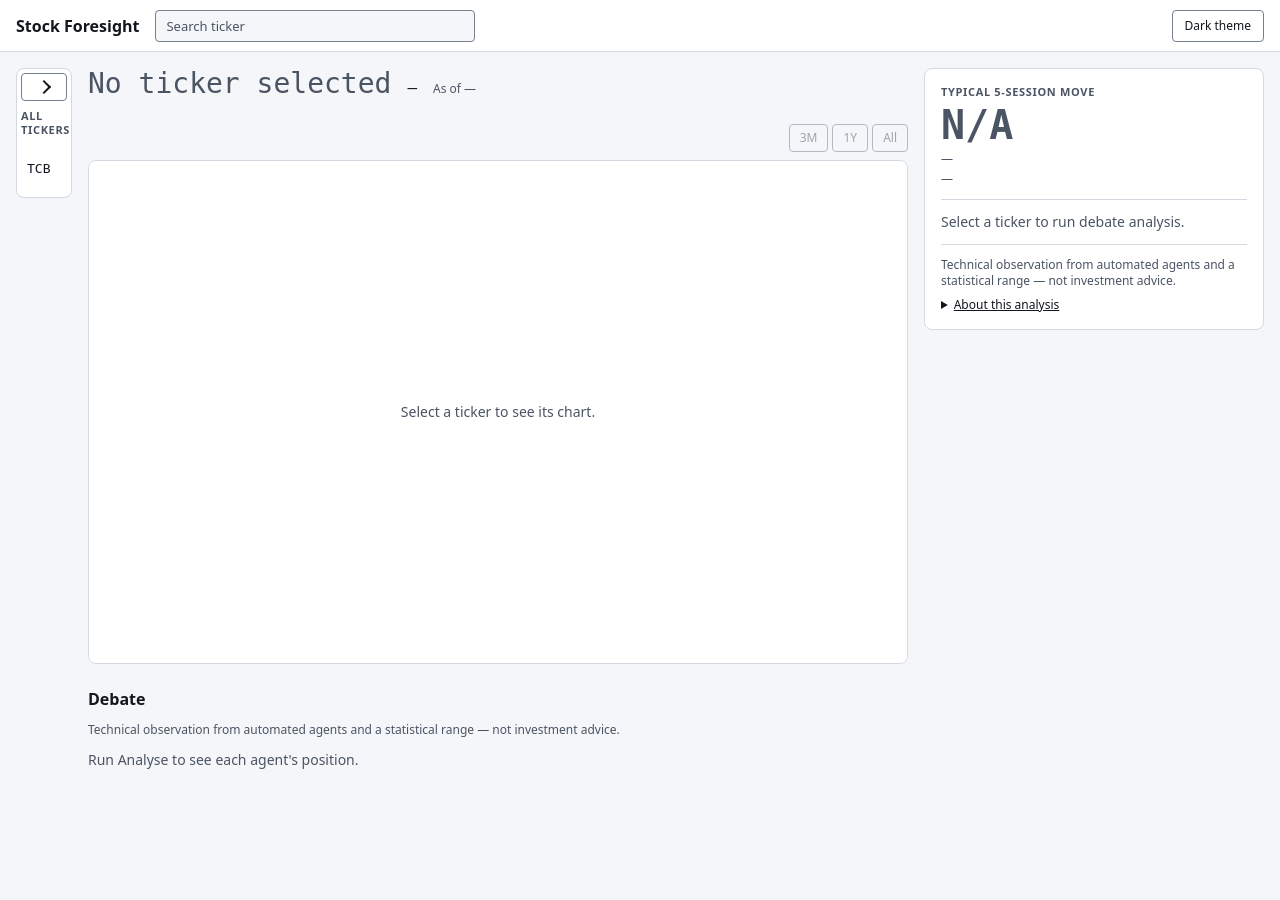
Test case: at 1300px (collapsed mode) with a result present › shows the Debate matrix once, and tells the same story as the panel from the same run
Type "tcb" into the field labelled "Search ticker".
click(316, 26); type("tcb")  # box [156,10,476,42]
Then press Enter
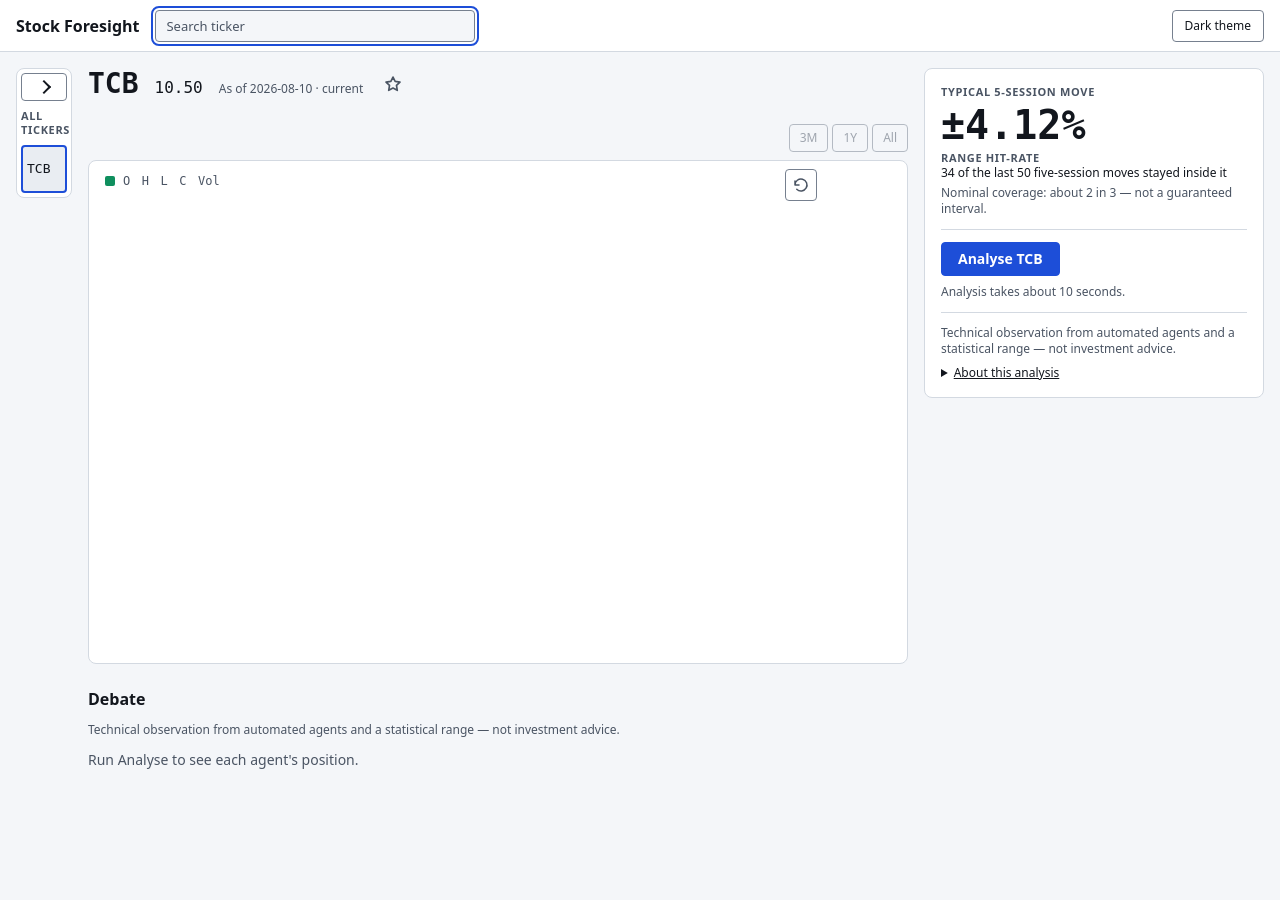
Click the button "Analyse TCB".
click(1000, 259)  # box [941,242,1060,276]
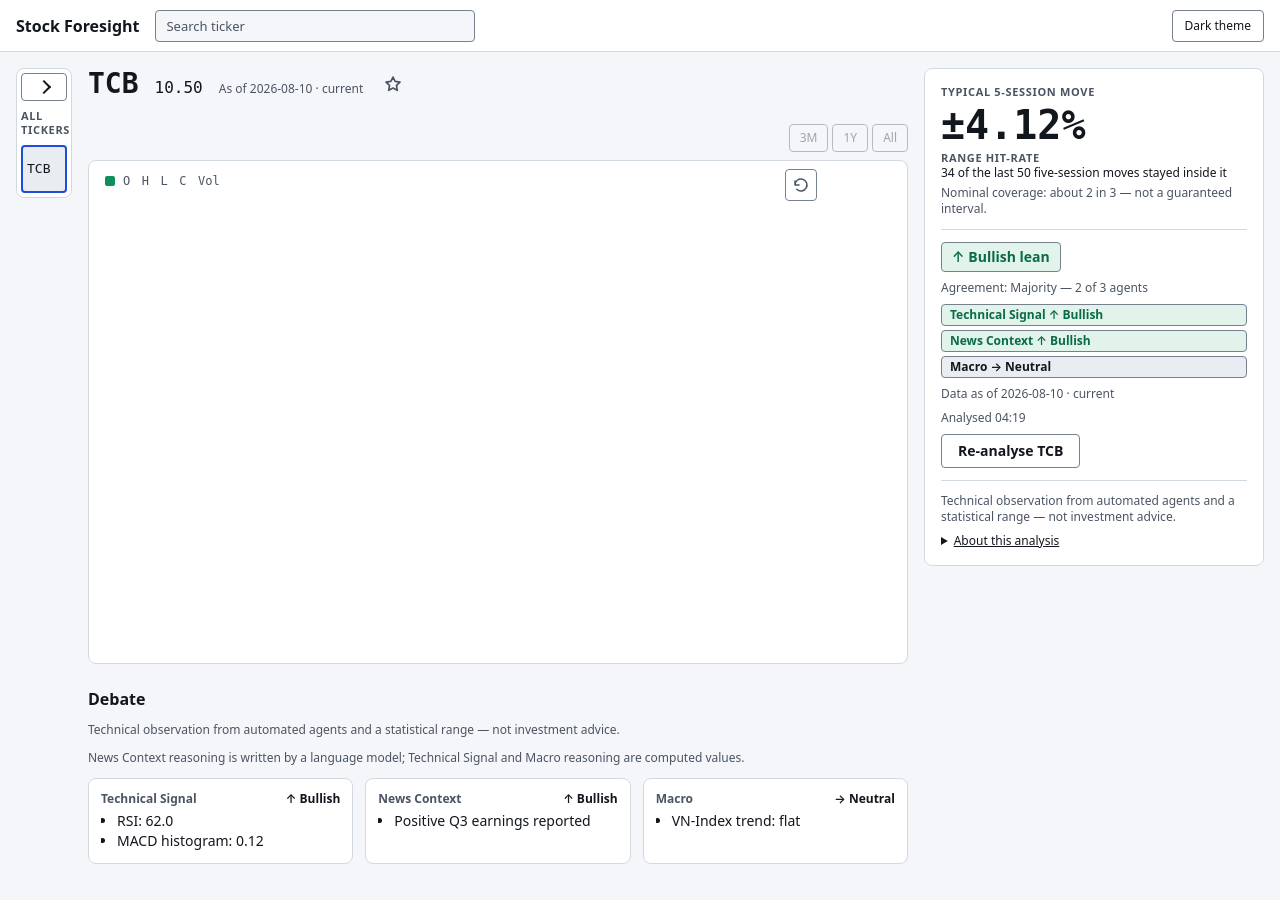
Expected: the number of elements "Debate" is 1, [88,688,908,864]
Now the text "Bullish lean" is shown, box [968,247,1050,266]
